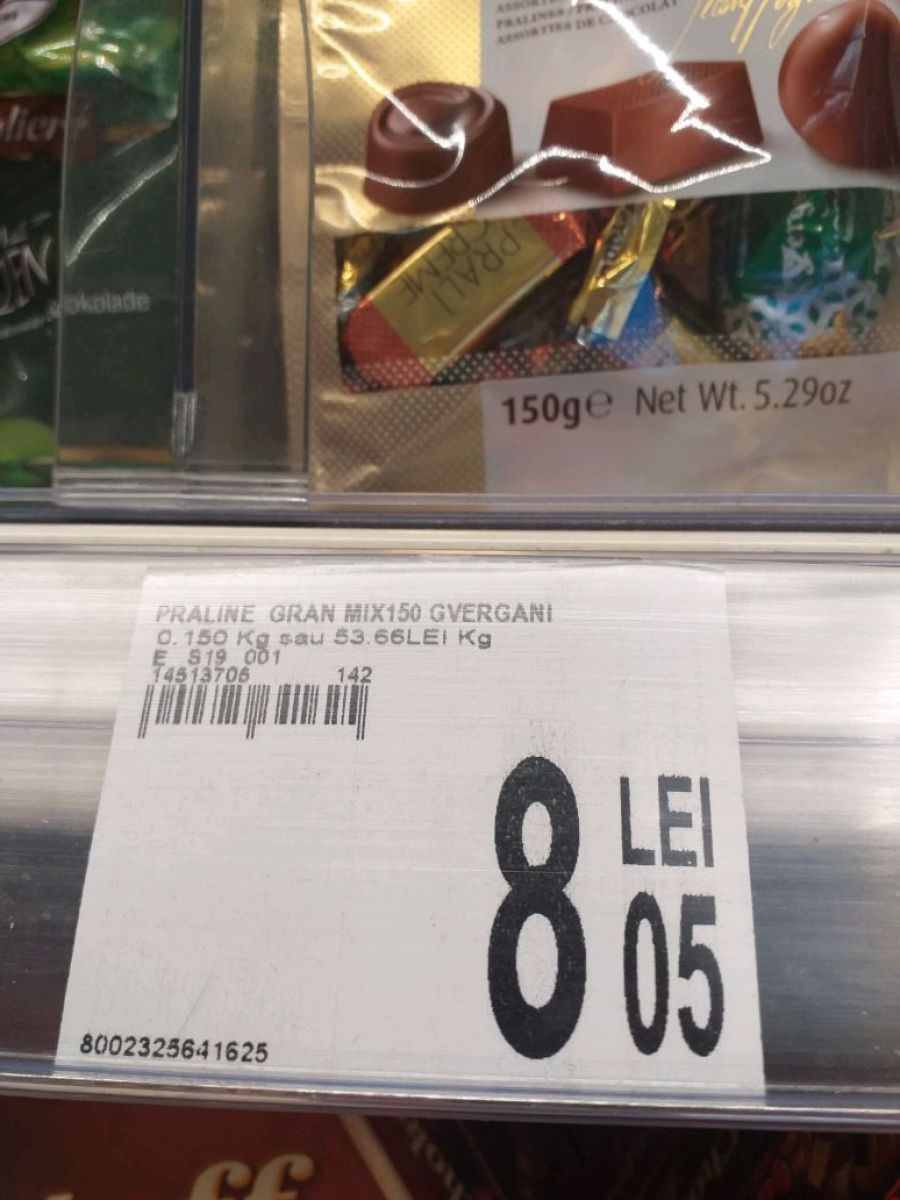bardcode: (75, 1028, 272, 1068)
list: (45, 561, 767, 1107)
name: (155, 598, 556, 630)
price: (474, 750, 736, 1066)
